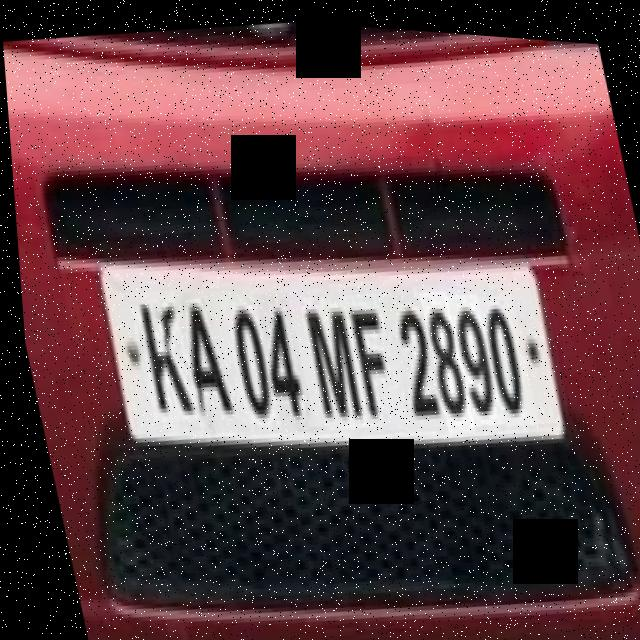0: (215, 287, 276, 425), (474, 285, 533, 422)
4: (249, 287, 311, 433)
8: (415, 283, 470, 430)
9: (439, 285, 499, 421)
A: (170, 286, 233, 431)
F: (333, 285, 405, 424)
K: (122, 285, 194, 424)
M: (292, 287, 366, 429)
